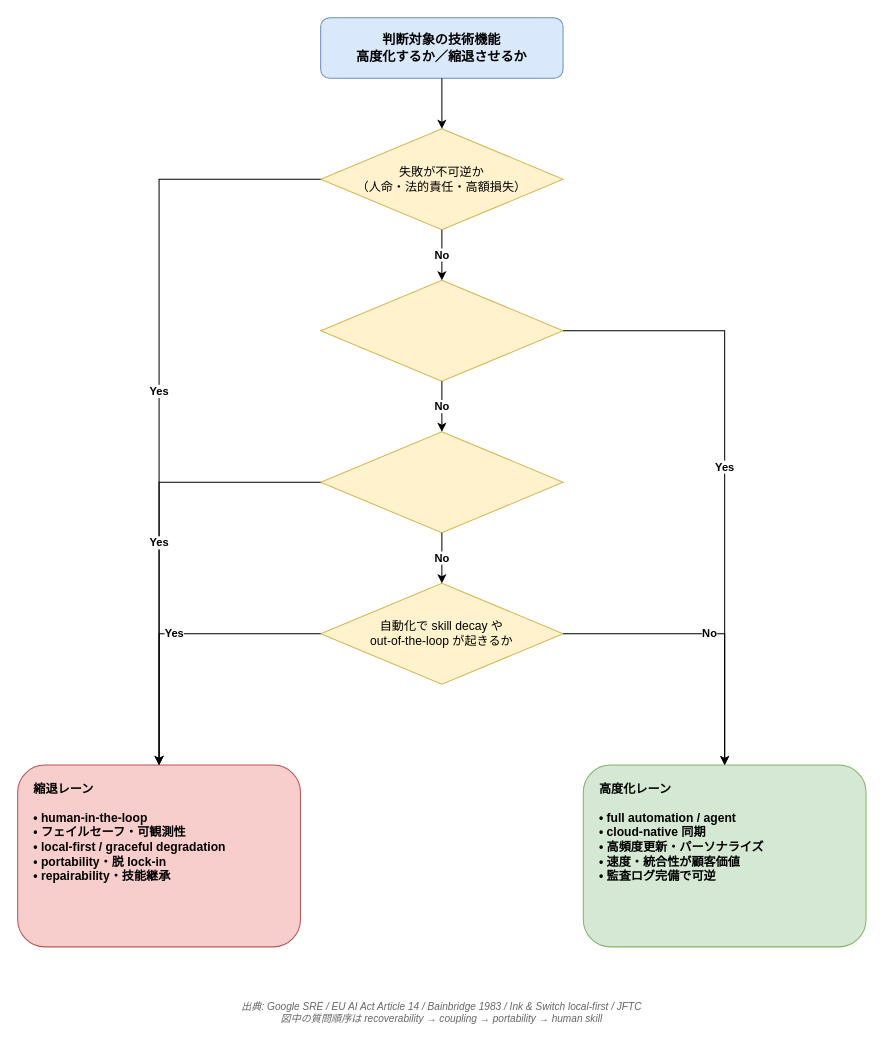
This 884x1055 diagram has some shape labels left out. Each missing label, with the box of its shape:
lock-in が強く 移行経路に乏しいか: (320, 431, 563, 533)
ネットワーク同期が 本質要件か: (320, 279, 563, 381)
